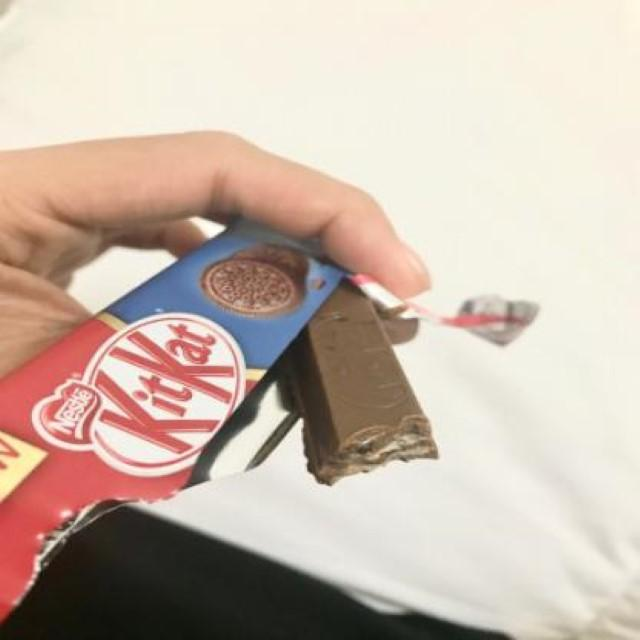kitkat_chocolate: (2, 268, 395, 564)
